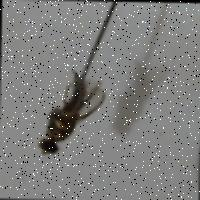Oriental-fruit-fly: (29, 66, 113, 164)
